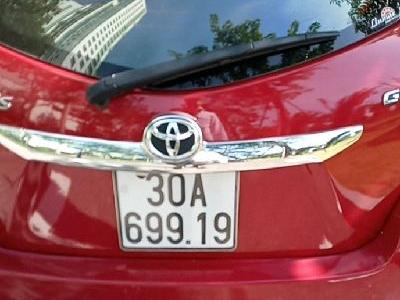lisence: (112, 167, 239, 253)
